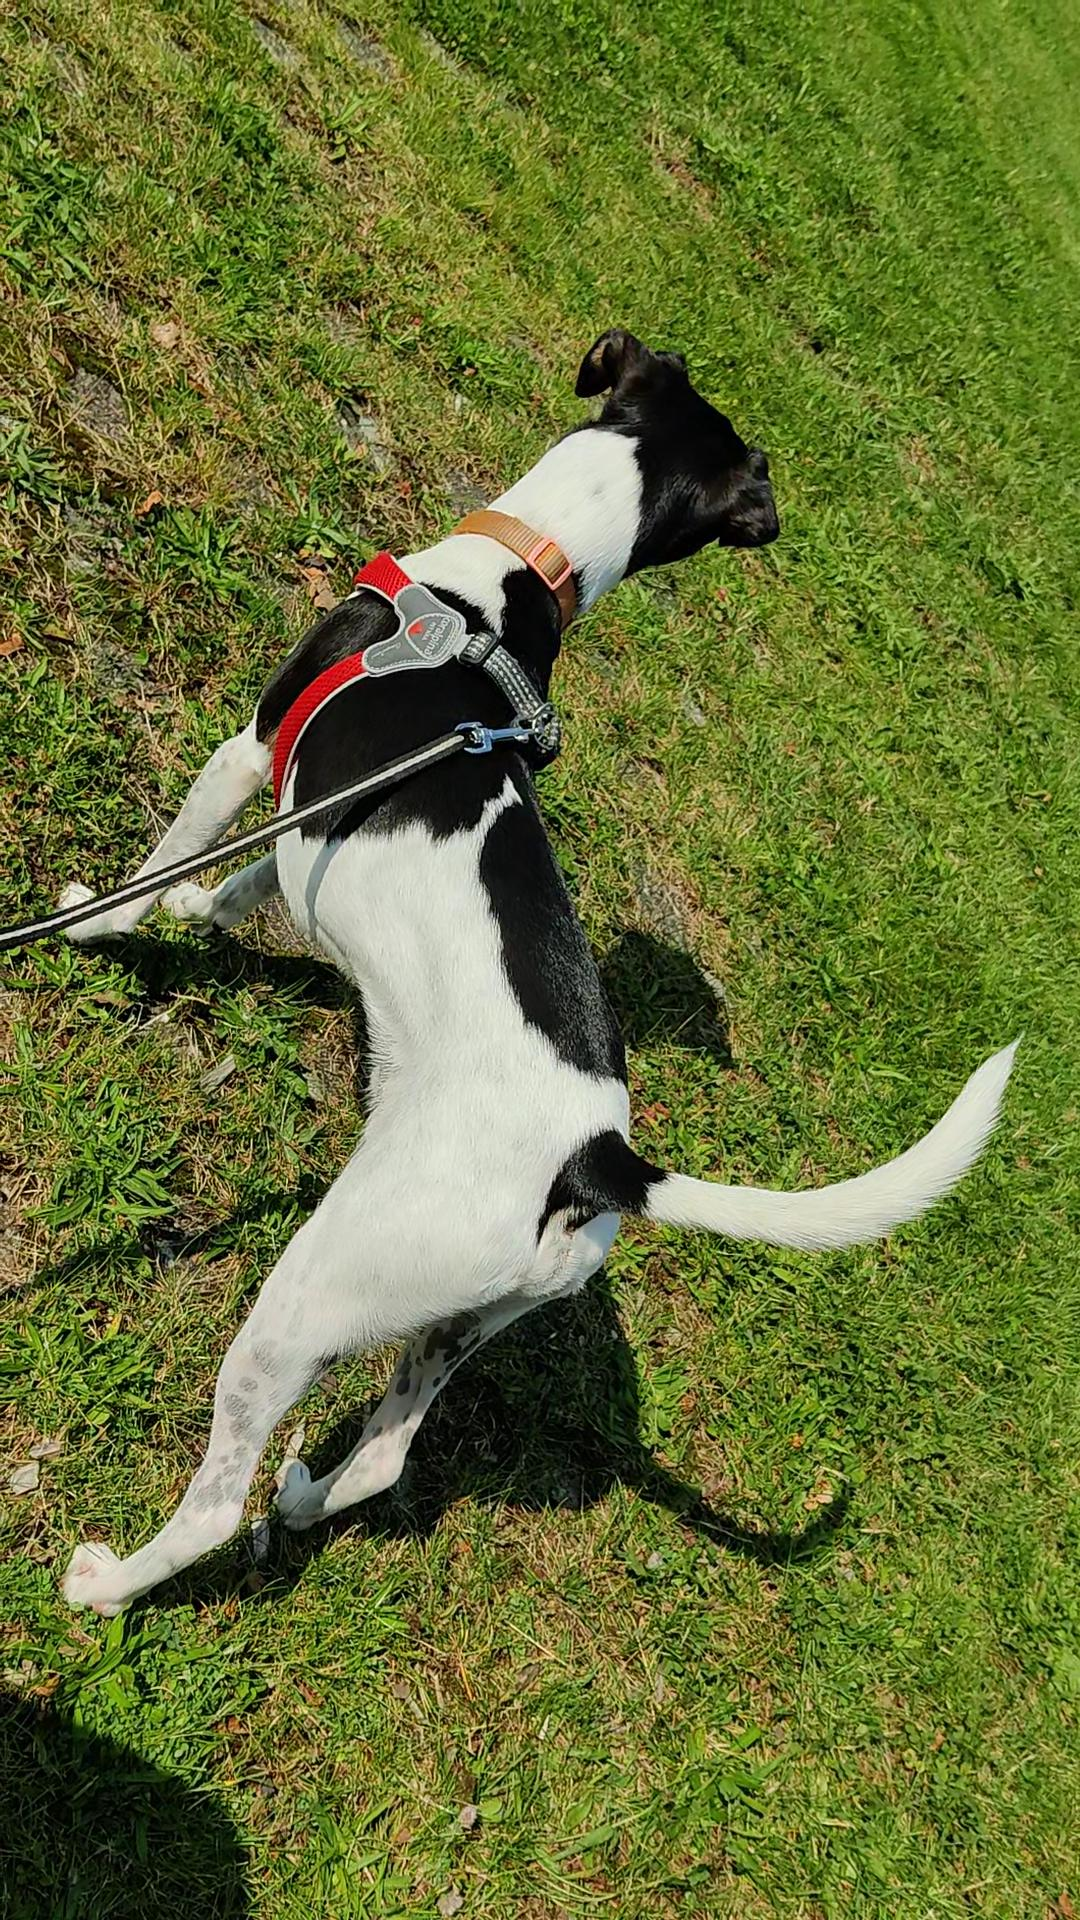Dog: (55, 328, 1025, 1614)
